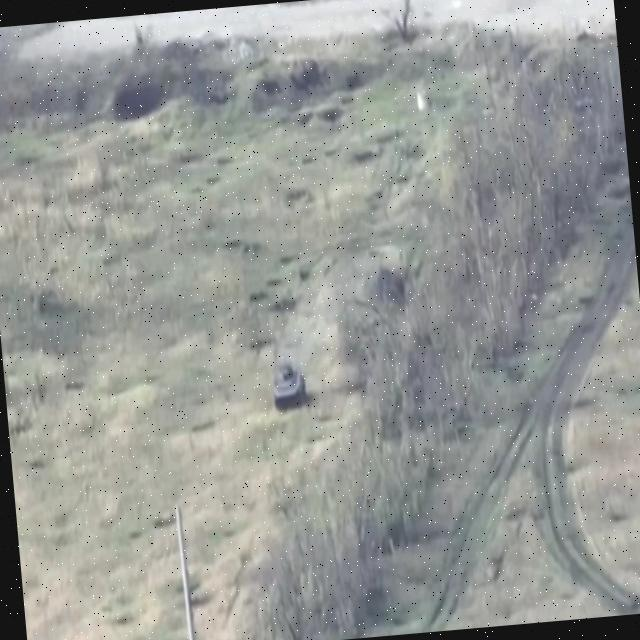AIFV: (270, 360, 310, 412)
